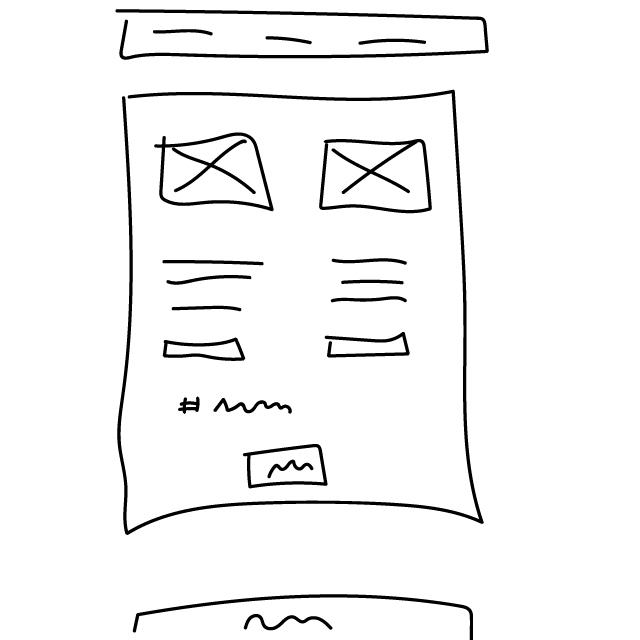button: (243, 444, 333, 492)
container: (112, 81, 505, 536)
footer: (128, 592, 493, 640)
frame: (151, 132, 281, 221), (315, 132, 439, 223)
heading: (175, 395, 299, 425)
input: (161, 334, 254, 368), (322, 327, 414, 361)
nav: (114, 8, 498, 68)
text: (157, 251, 269, 320), (324, 250, 417, 310)
